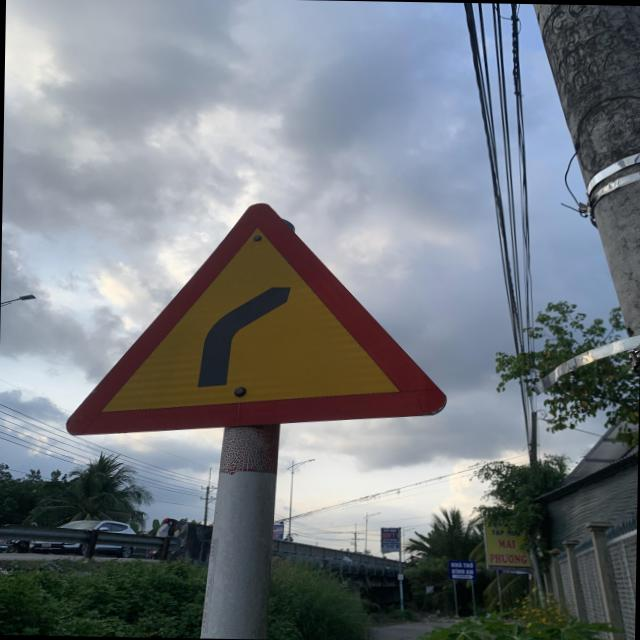Duong_Nguoi_Di_Bo_Cat_Ngang: (54, 200, 456, 446)
